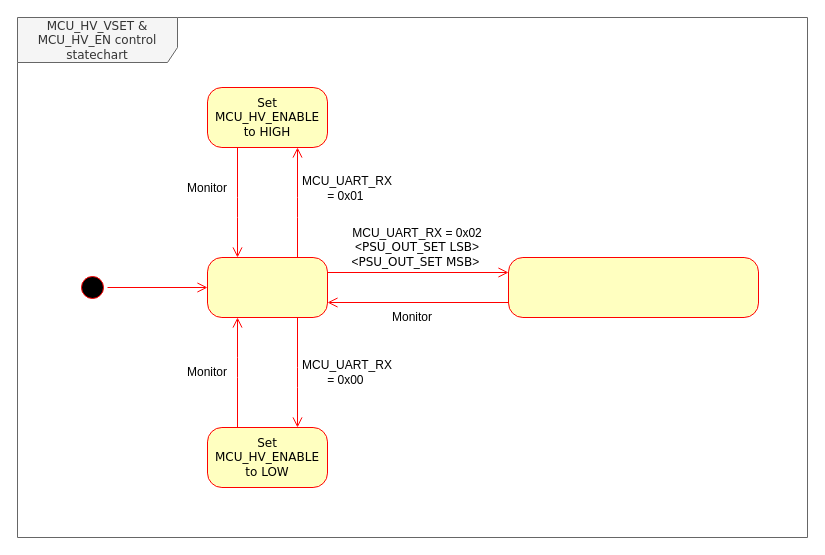
Image size: 825x555. Some labels were removed from this diagram. The shapes that lost their labels are listed below. From the top down, each one's centre as x and y in pixels, then its label:
At point (267, 287): "Wait for valid command".
At point (633, 287): "MCU_HV_VSET = convert_to_analog(PSU_OUT_SET LSB, PSU_OUT_SET MSB)".
